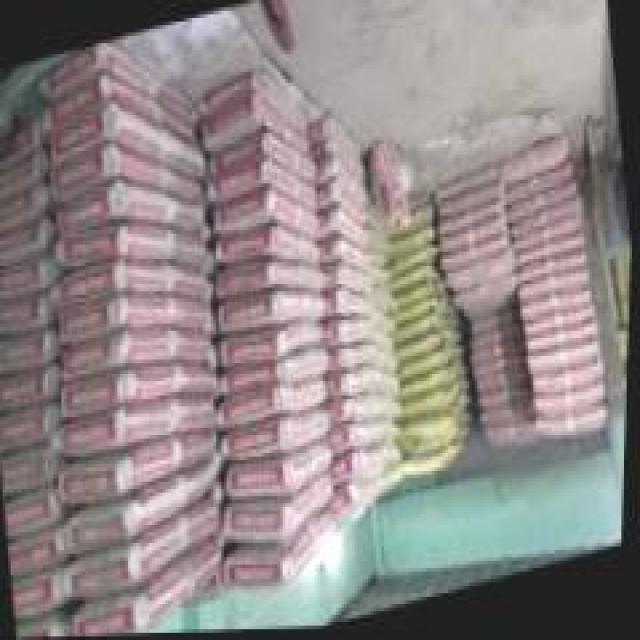gunny_bag: (69, 496, 220, 601), (77, 542, 225, 637), (73, 462, 215, 554), (61, 430, 217, 507), (50, 103, 199, 178), (44, 68, 194, 138), (61, 395, 213, 460), (58, 177, 201, 241), (228, 514, 337, 596), (61, 288, 211, 344), (63, 365, 210, 418), (57, 219, 201, 273), (66, 329, 209, 382), (56, 257, 203, 308), (227, 475, 335, 538), (197, 70, 304, 133), (229, 442, 334, 506), (220, 378, 328, 433), (227, 410, 333, 464), (223, 348, 326, 403), (211, 128, 314, 180), (213, 187, 314, 239), (220, 286, 325, 335), (222, 321, 323, 370), (217, 221, 317, 266), (218, 259, 322, 299), (11, 525, 69, 579), (0, 400, 52, 455), (0, 211, 52, 265), (507, 165, 568, 211), (441, 237, 507, 279), (514, 201, 583, 241), (2, 447, 57, 496), (0, 364, 57, 411), (0, 324, 52, 375), (519, 269, 587, 308), (0, 180, 50, 233), (435, 165, 496, 208), (537, 363, 604, 402), (531, 341, 595, 379), (6, 492, 60, 537), (440, 203, 502, 242), (15, 569, 64, 618), (0, 254, 50, 302), (541, 404, 605, 440), (520, 235, 582, 272), (0, 290, 51, 334), (0, 150, 42, 200), (530, 324, 592, 356), (334, 421, 386, 459), (316, 183, 361, 223), (313, 136, 358, 175), (401, 349, 447, 385), (403, 389, 450, 423), (319, 236, 366, 270), (345, 364, 378, 396), (398, 281, 433, 309), (344, 394, 379, 422), (342, 342, 376, 370), (340, 317, 369, 346), (340, 288, 365, 315)
